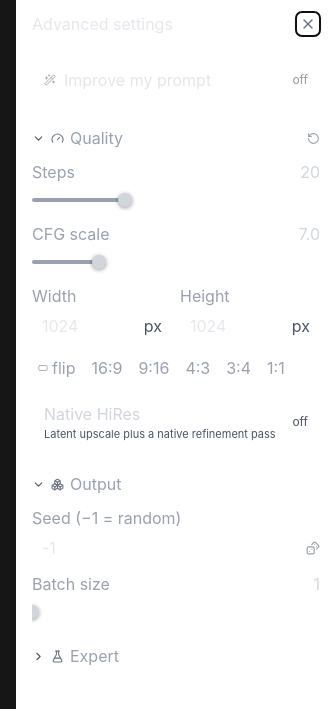
Scenario: AdvancedDrawer, Studio-Zweig › bleibt ohne studioModel bei ParamGroups (lokale Spur unveraendert)
This screenshot has width=336, height=709.
Click the button "Expert".
click(76, 656)  # box [32,644,119,668]
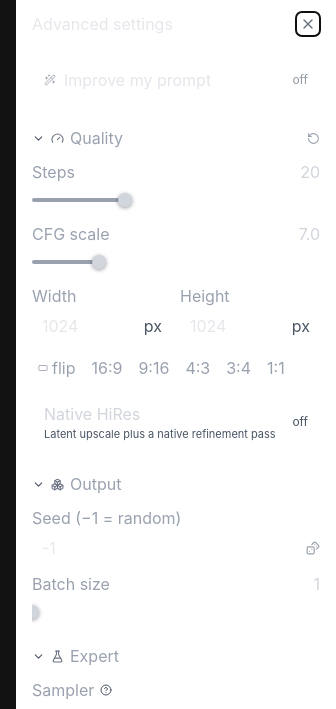
Expected: the text "Sampler" is shown, [32,678,94,702]
